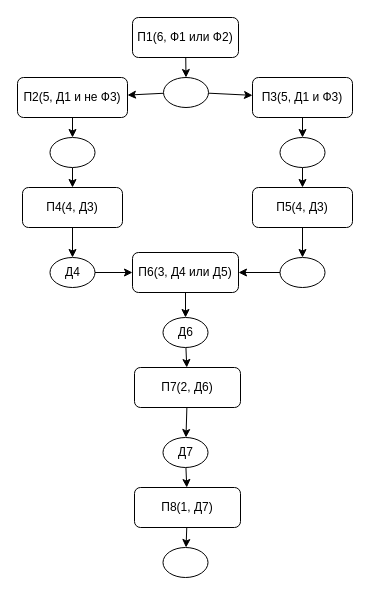
The diagram is 370 pixels wide and 595 high, and some of its shapes have lost their labels. Here are the shapes that lost their labels. From the top down, the centre of each, then its label:
At (x=185, y=92): "Д1".
At (x=72, y=152): "Д2".
At (x=302, y=152): "Д3".
At (x=302, y=272): "Д5".
At (x=185, y=562): "Д8".
